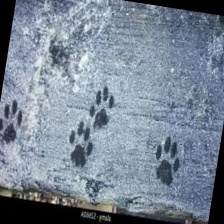cat: (147, 135, 190, 189), (62, 121, 102, 172), (86, 81, 118, 130), (0, 97, 29, 146)
